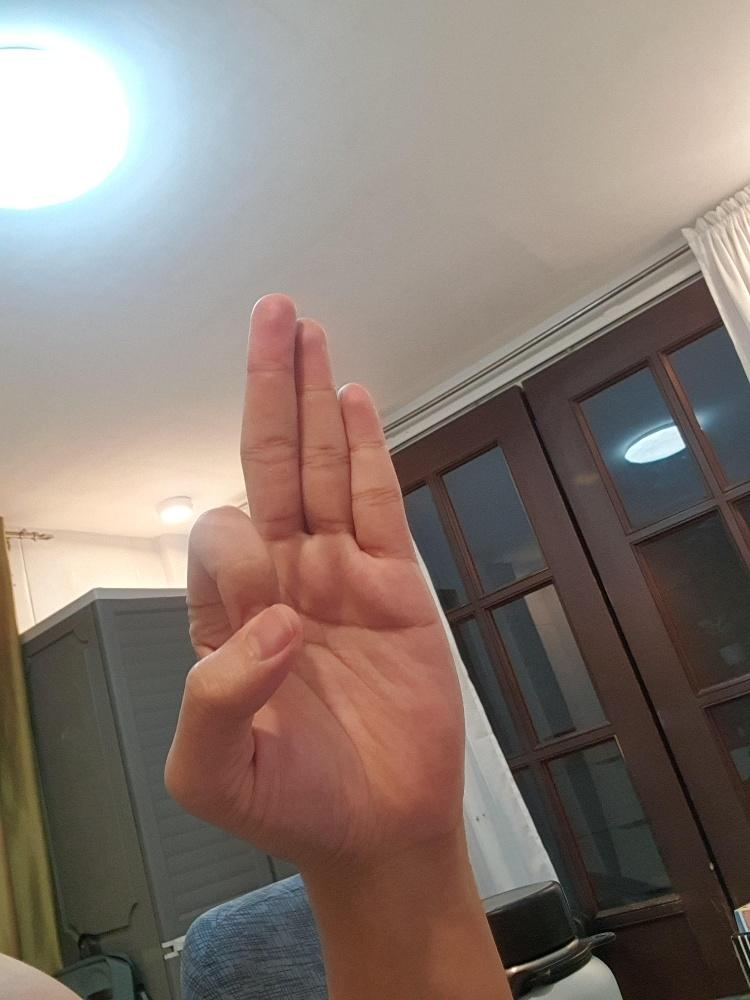f: (160, 288, 473, 868)
